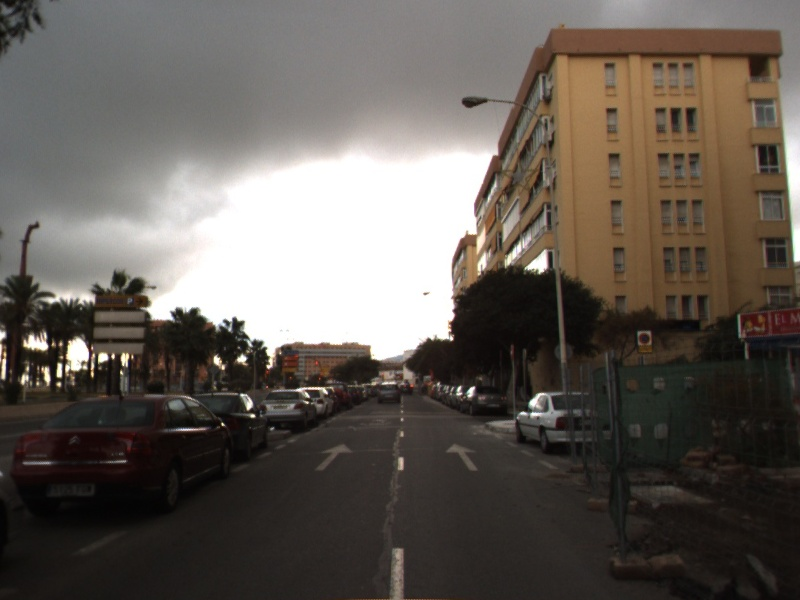STRAIGHT: (314, 442, 355, 472), (445, 442, 479, 472)
